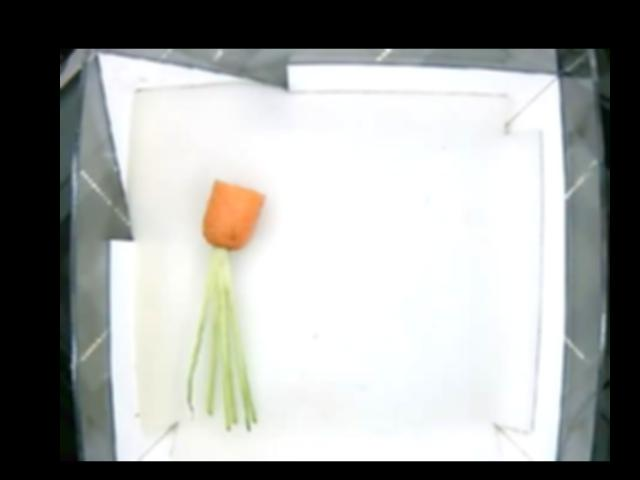Carrot: (199, 177, 265, 300)
